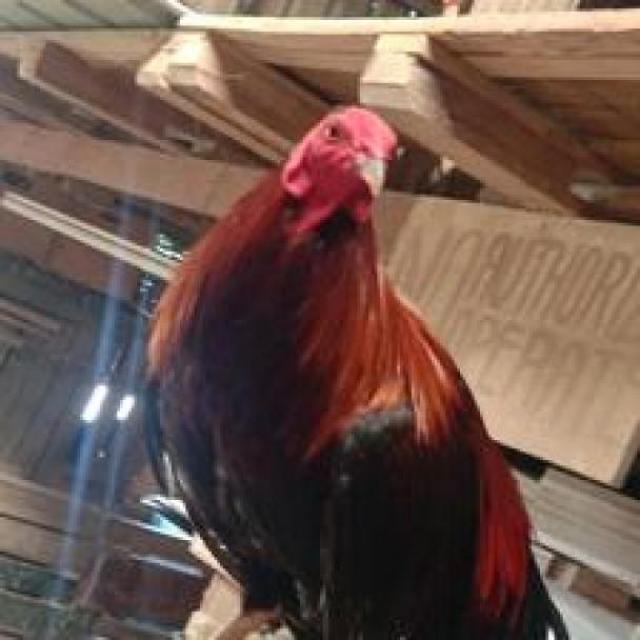Chicken: (124, 90, 618, 640)
